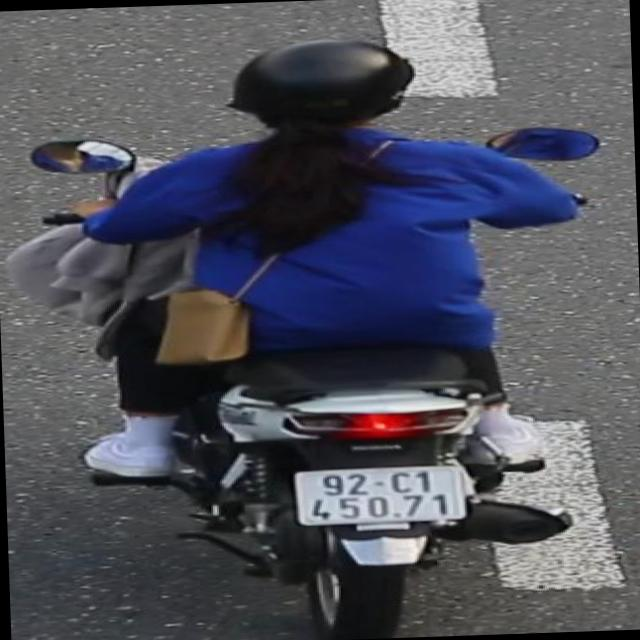LP: (282, 458, 476, 541)
helmet: (221, 30, 414, 136)
